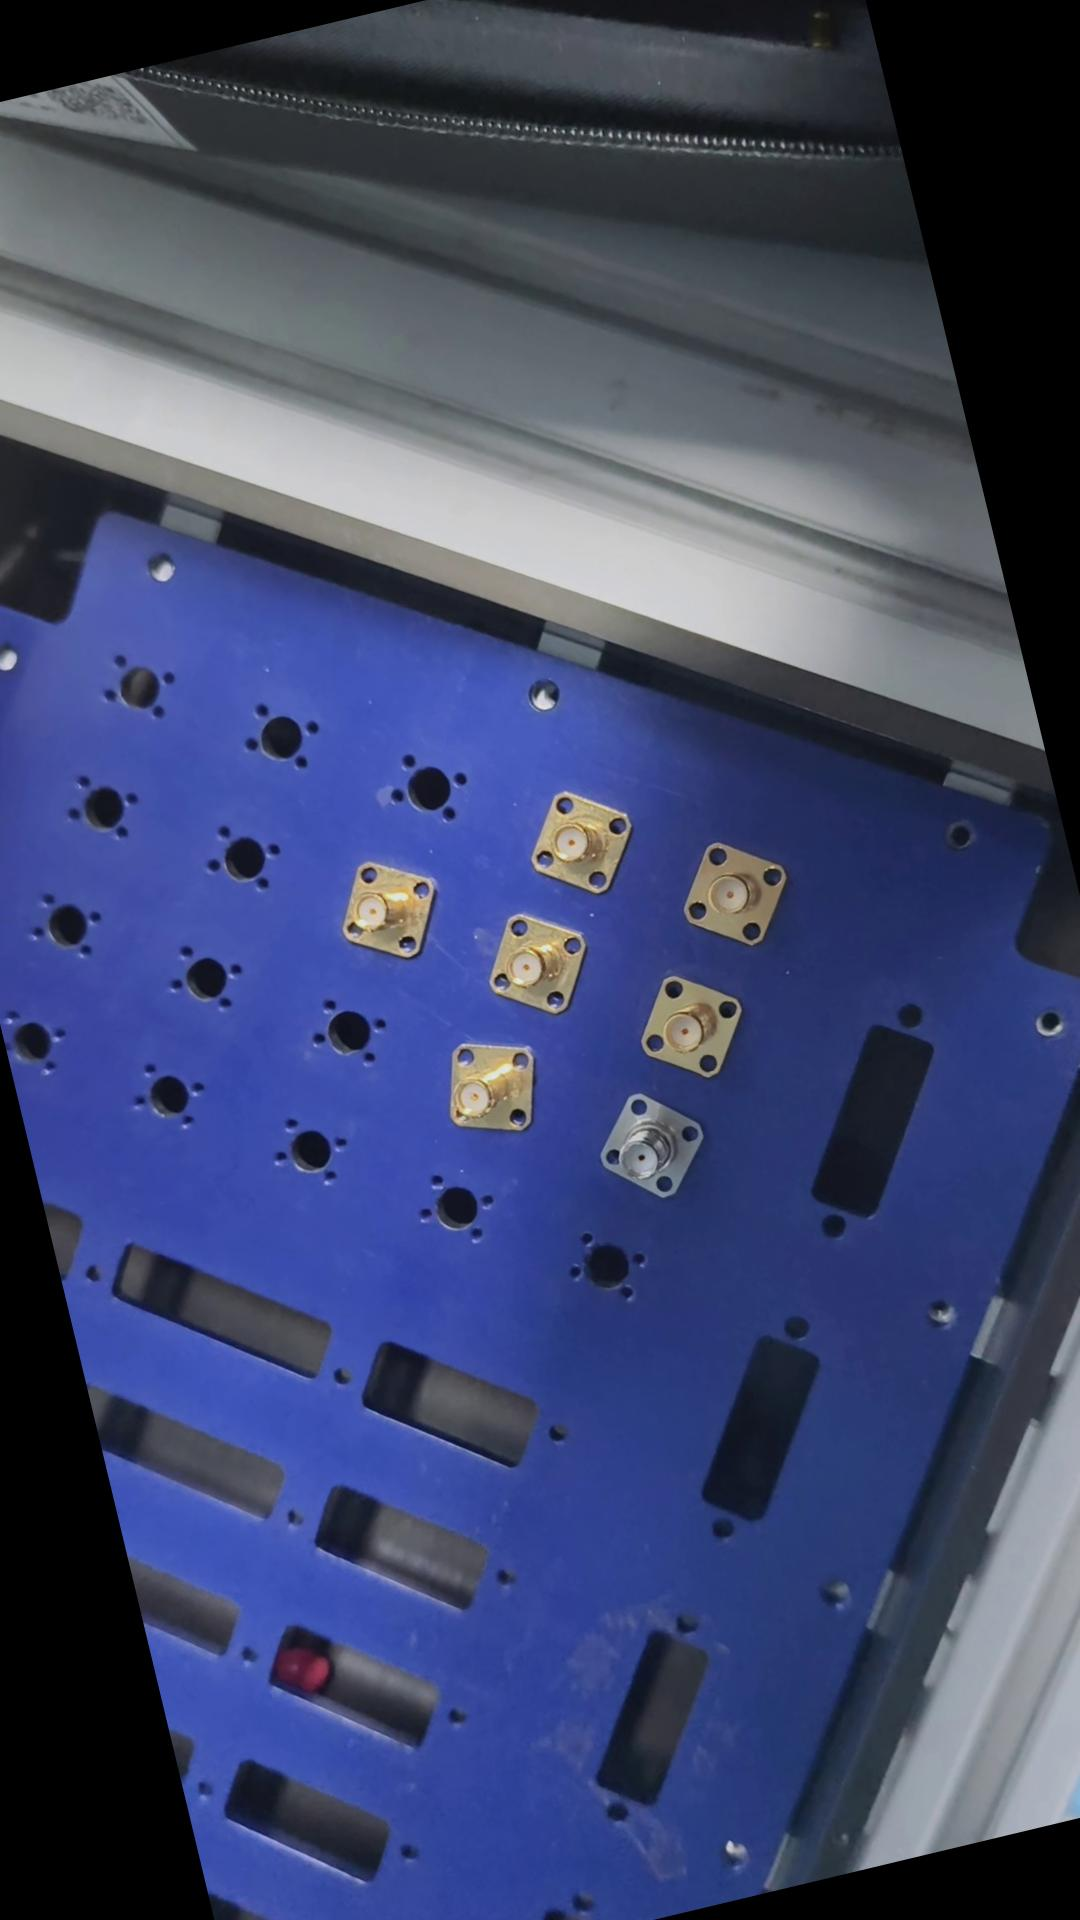SMA: (580, 1072, 717, 1217), (618, 955, 757, 1091), (512, 769, 641, 906), (669, 827, 799, 955), (415, 1033, 551, 1153), (472, 899, 597, 1027), (324, 843, 444, 967)
